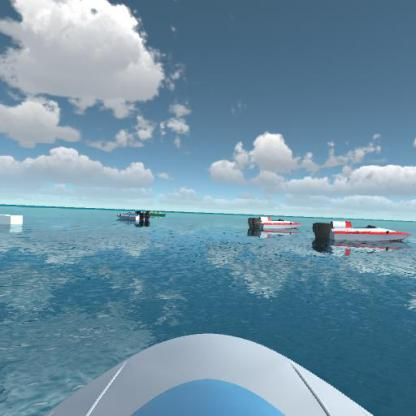usv0: (144, 208, 168, 219)
usv1: (115, 206, 150, 228)
usv3: (309, 215, 412, 254), (246, 212, 303, 237)
